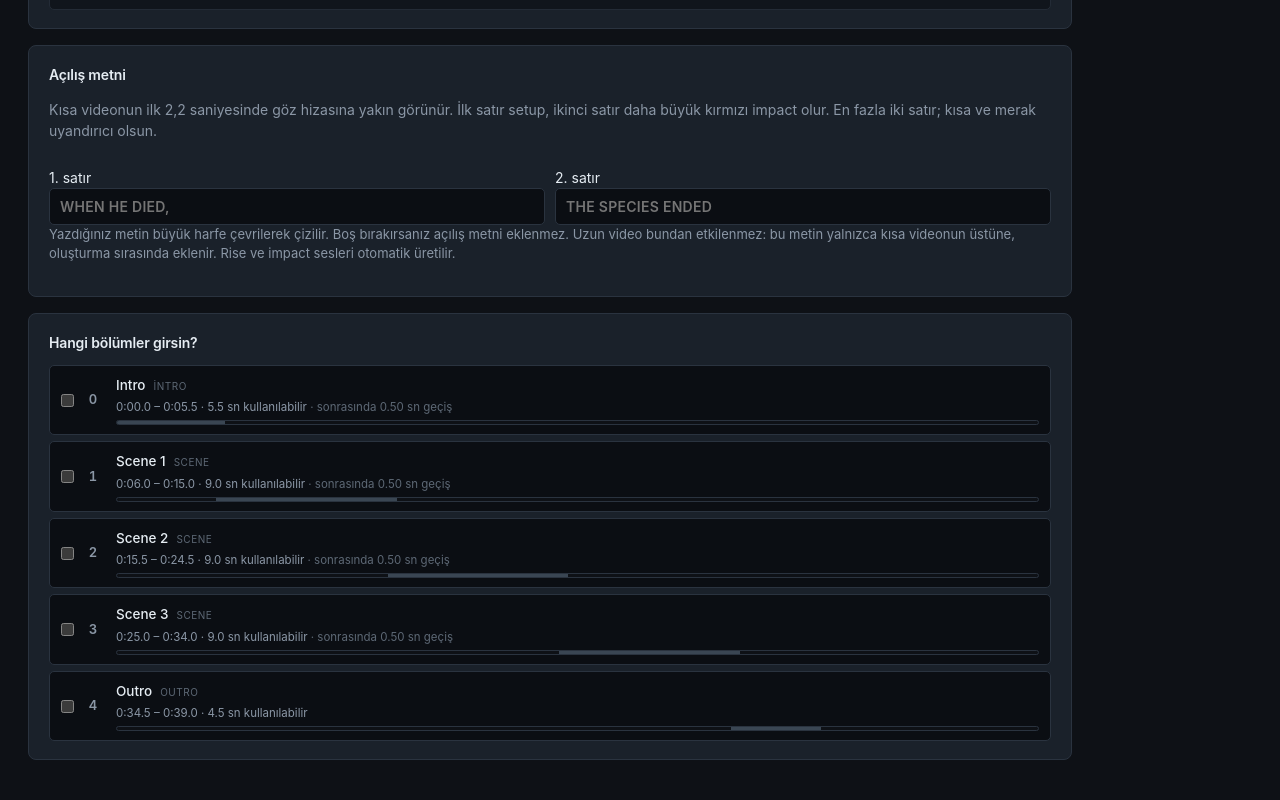
Test: ShortsPage › disables the render button until a section is selected
(page scrolled)
Click the checkbox named "2. bölümü ekle: Scene 2" at coordinates (68, 553), box [61,546,74,560]
(page scrolled)
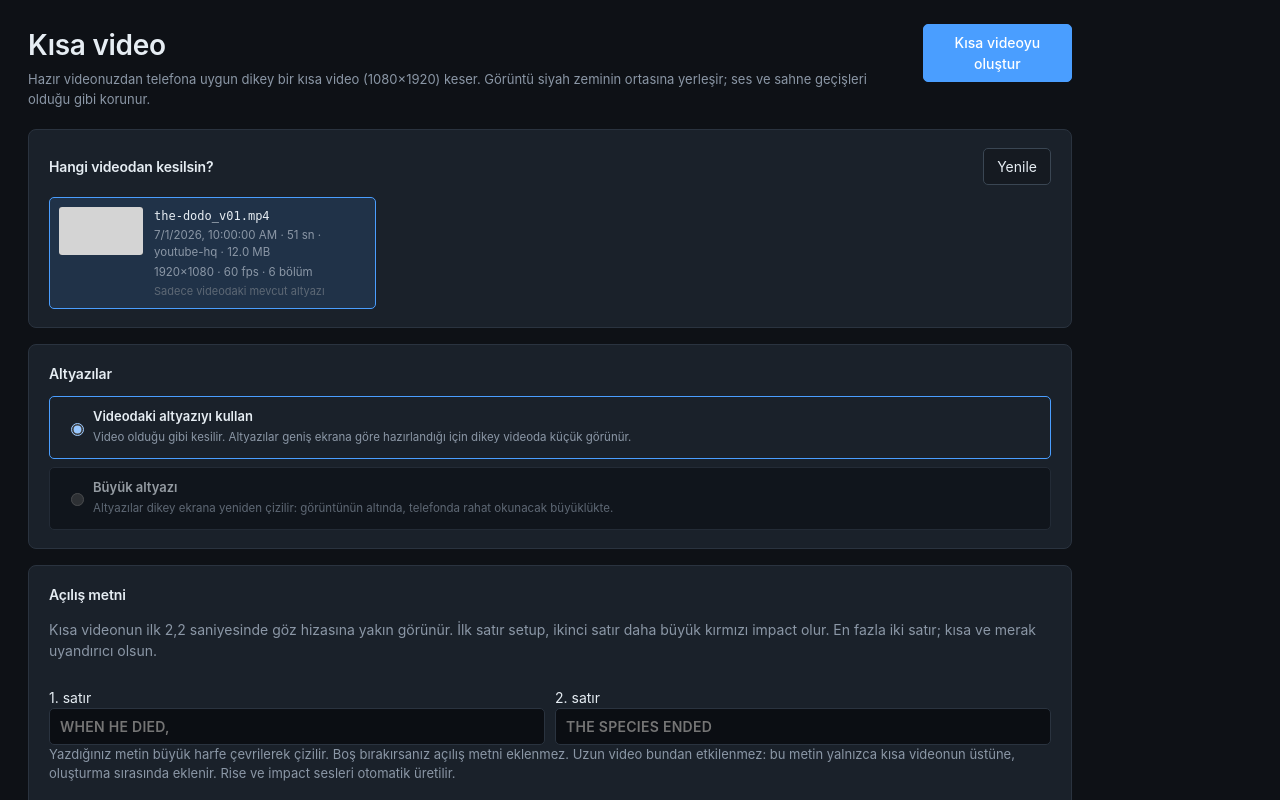
Check: the button "Kısa videoyu oluştur" is enabled, box [923,24,1072,82]
